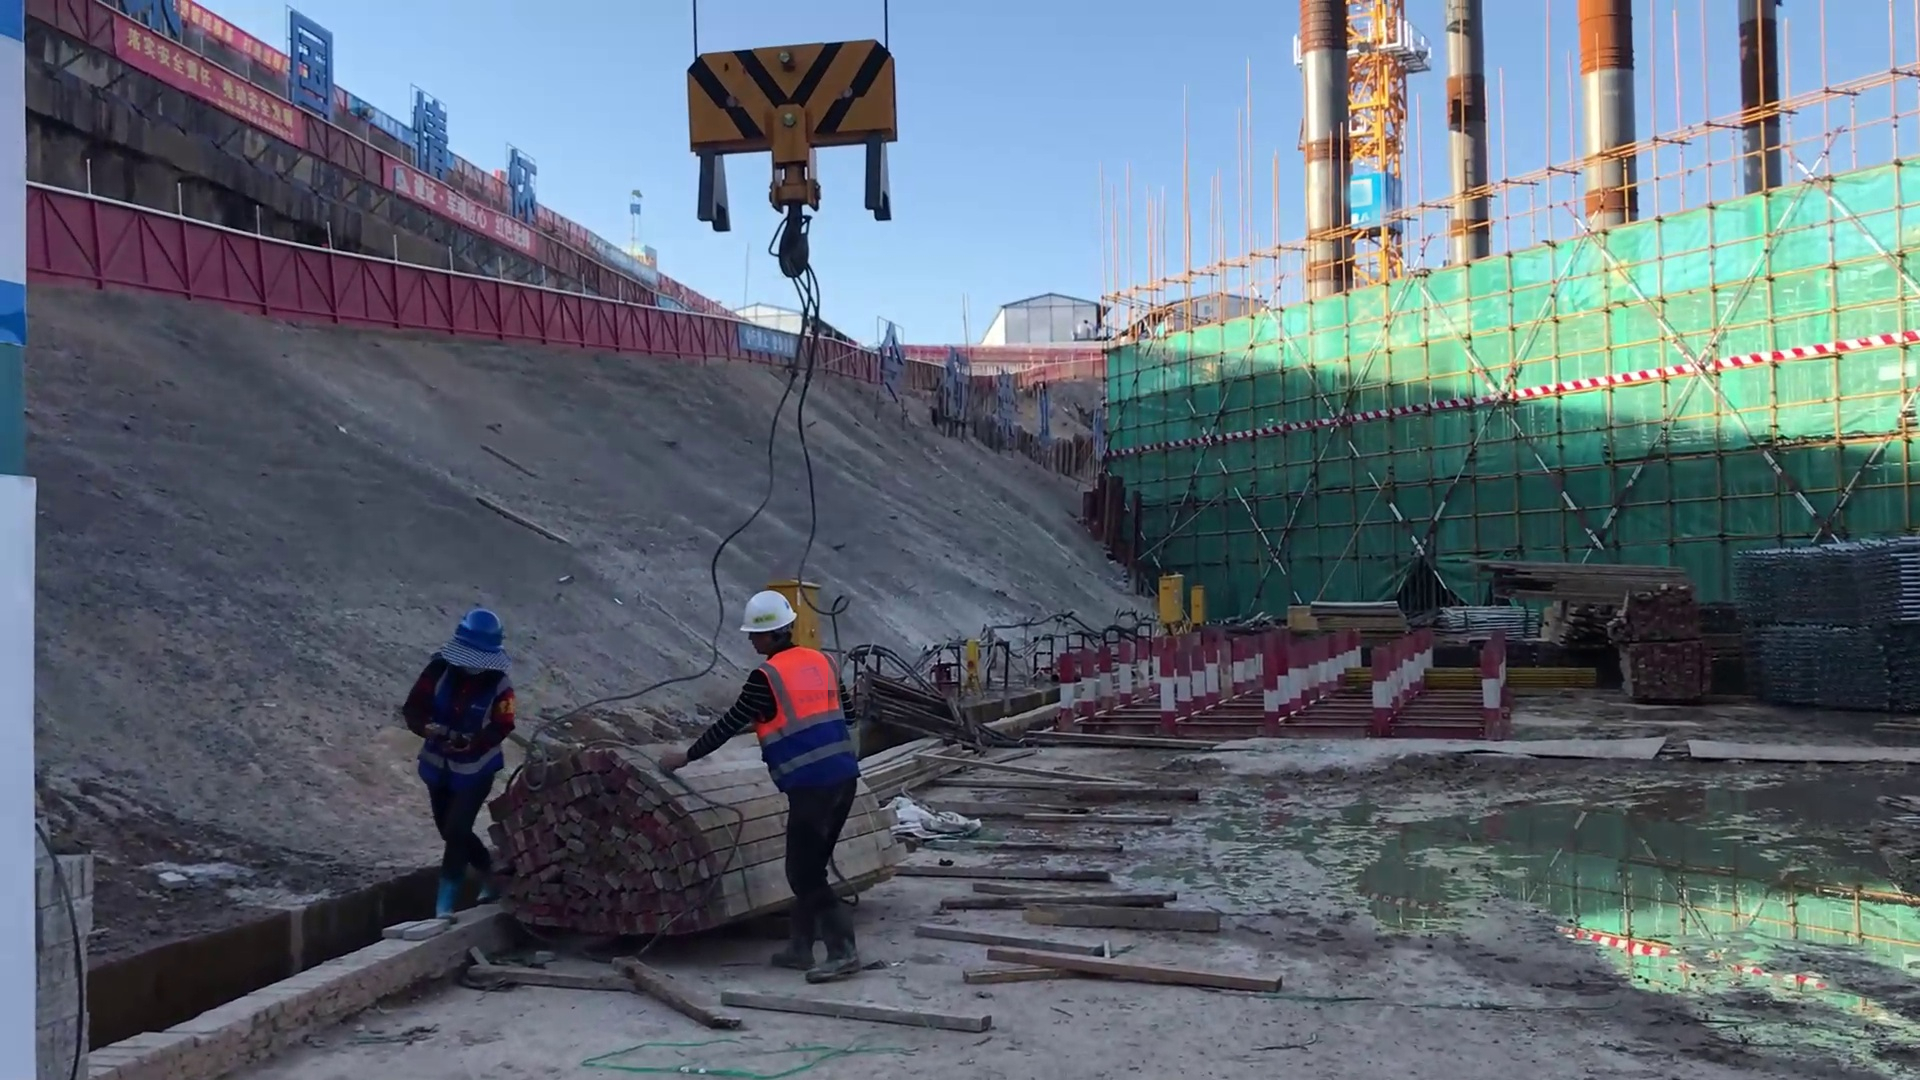ebox: (1156, 573, 1187, 627), (1184, 584, 1206, 626)
fence: (25, 192, 378, 318), (314, 270, 738, 353)
helmet: (730, 586, 806, 659), (440, 601, 515, 671)
hook: (685, 18, 903, 238)
person: (668, 589, 858, 987), (401, 609, 515, 929)
slogan: (51, 26, 312, 163)
vest: (733, 647, 853, 783), (416, 671, 501, 771)
wood: (919, 715, 1296, 1049), (511, 742, 660, 960), (1451, 533, 1689, 620)
